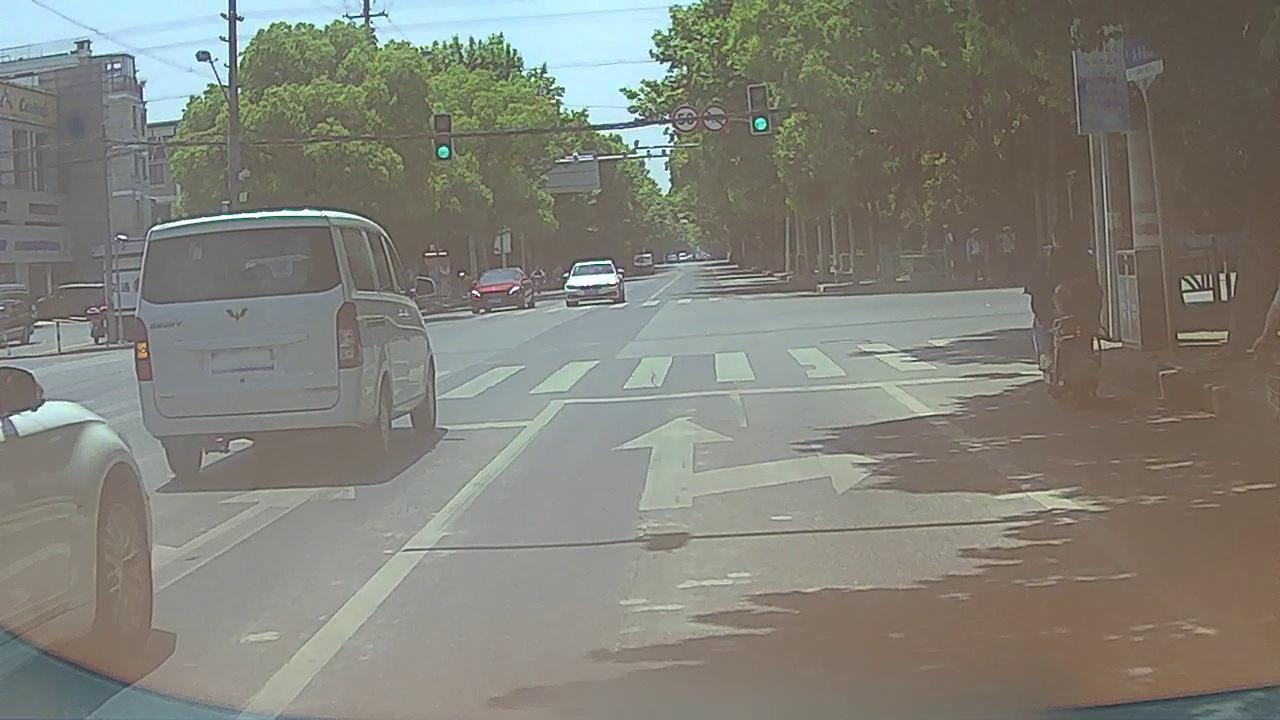traffic_light: (749, 87, 770, 132), (435, 114, 452, 160)
